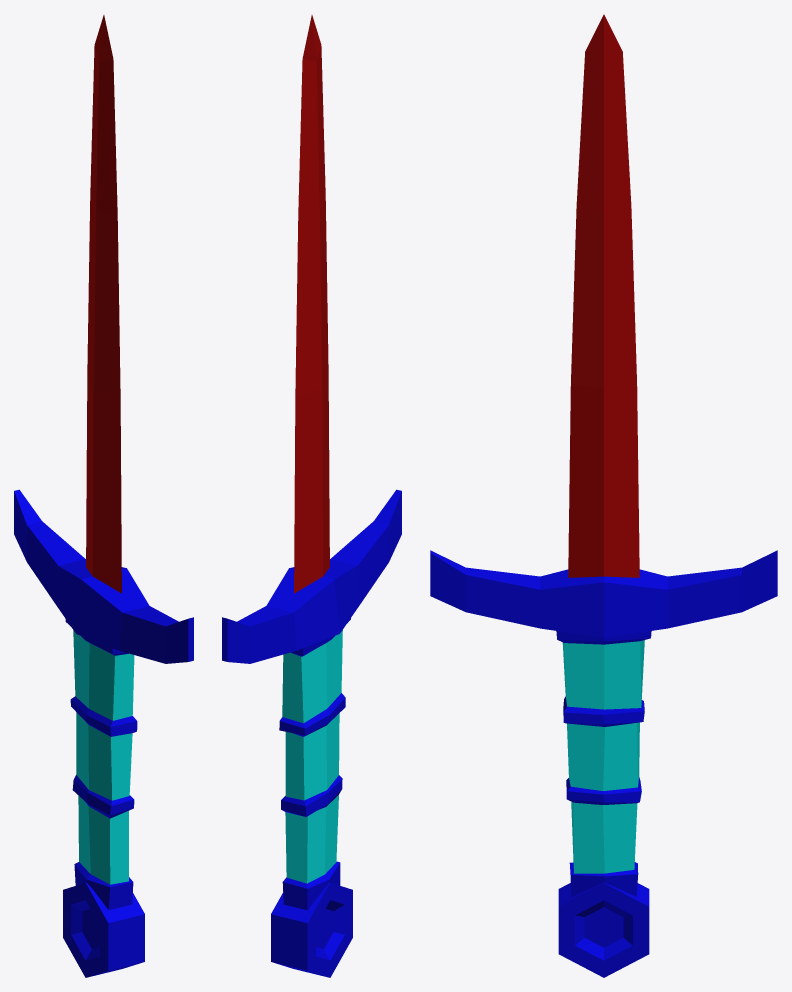
Rendered from Dagger_Uncommon_Parrying.fbx.
3 views of the same model, side by side, from view 1: azimuth 30°, elevation 25°; view 2: azimuth 150°, elevation 25°; view 3: azimuth 270°, elevation 25° (orthographic).
Visible parts, largest first — view 1: SM_Wep_Dagger_03; view 2: SM_Wep_Dagger_03; view 3: SM_Wep_Dagger_03.
Part boxes in pixels (x1=…): SM_Wep_Dagger_03: x1=14, y1=15, x2=193, y2=977; SM_Wep_Dagger_03: x1=222, y1=15, x2=401, y2=977; SM_Wep_Dagger_03: x1=430, y1=14, x2=777, y2=977.
Size of the model in its own units: 4.66 by 76.75 by 25.29.
